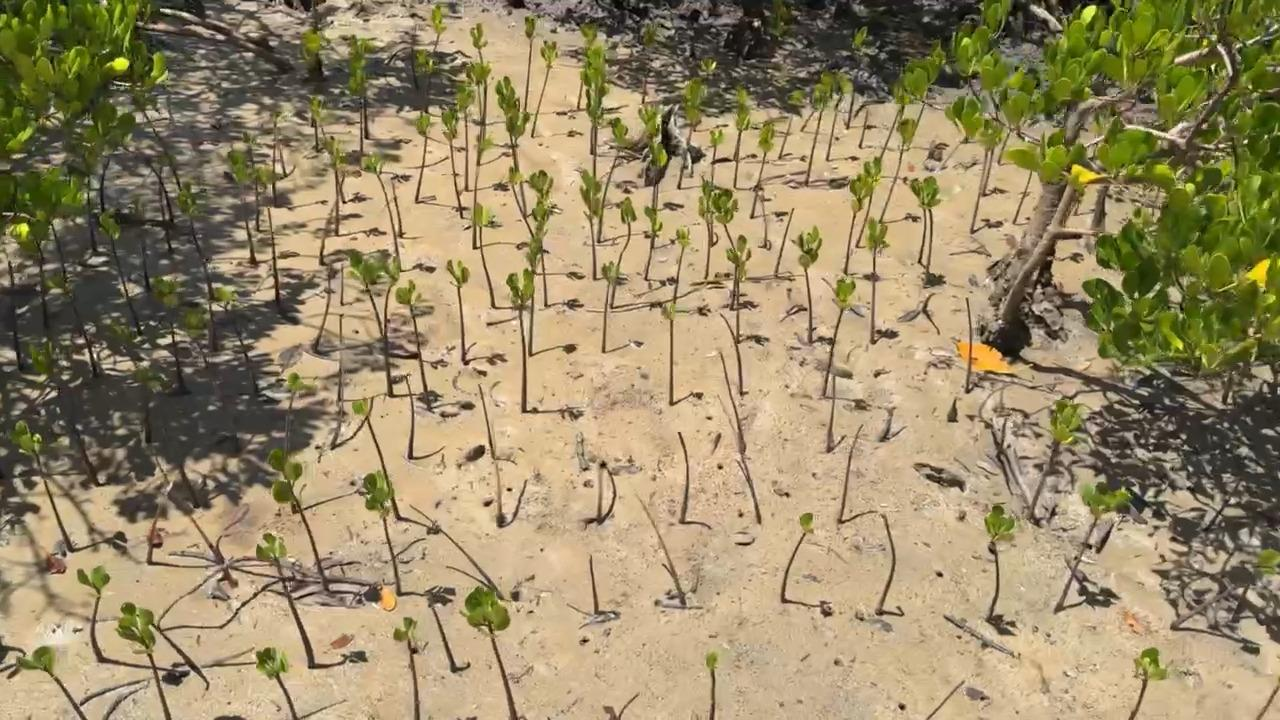Tree: (270, 450, 380, 604), (255, 530, 368, 668), (16, 420, 126, 557), (356, 469, 454, 608), (78, 567, 190, 686), (1168, 546, 1280, 658), (353, 397, 440, 535), (505, 269, 584, 420), (394, 281, 476, 423), (1052, 478, 1135, 613), (30, 336, 100, 484), (355, 150, 433, 275), (374, 249, 435, 408), (172, 181, 218, 352), (464, 585, 521, 720), (1025, 397, 1087, 521), (476, 384, 528, 526), (518, 239, 577, 356), (350, 35, 408, 150), (822, 277, 872, 410), (608, 194, 663, 312), (574, 165, 627, 287), (117, 602, 170, 720), (447, 260, 506, 366), (531, 165, 582, 280), (470, 201, 524, 309), (410, 111, 466, 215), (584, 82, 637, 191), (780, 510, 834, 616), (14, 645, 88, 720), (100, 210, 144, 335), (639, 496, 688, 607), (215, 284, 262, 397), (523, 12, 574, 116), (803, 83, 853, 188), (532, 37, 583, 136), (726, 234, 772, 342), (467, 60, 513, 164), (659, 299, 704, 405), (878, 117, 923, 223), (575, 21, 627, 112), (254, 167, 288, 306), (984, 505, 1019, 638), (796, 225, 834, 344), (55, 273, 98, 373), (749, 121, 791, 221), (440, 106, 477, 219), (471, 23, 511, 125), (867, 216, 899, 343), (837, 423, 877, 524), (155, 277, 188, 397), (97, 109, 135, 213), (844, 174, 879, 281), (601, 262, 643, 351), (588, 47, 623, 153), (677, 431, 713, 531), (671, 226, 711, 315), (969, 127, 1002, 234), (404, 373, 444, 460), (253, 646, 300, 720), (873, 514, 906, 619), (136, 150, 181, 225), (232, 148, 262, 260), (282, 371, 317, 466), (677, 79, 707, 189), (907, 83, 948, 163), (825, 75, 862, 163), (504, 165, 543, 247), (391, 615, 421, 720), (919, 176, 947, 288), (26, 228, 57, 329), (431, 601, 472, 676), (355, 251, 388, 344), (709, 188, 743, 278), (846, 28, 876, 129), (698, 177, 727, 279), (153, 145, 180, 253), (1129, 644, 1167, 720), (691, 58, 730, 132), (496, 76, 526, 172), (350, 69, 382, 156), (719, 352, 746, 453), (309, 263, 338, 355), (854, 156, 883, 247), (421, 5, 448, 102), (190, 518, 232, 580), (328, 393, 375, 448), (734, 444, 766, 523), (146, 496, 180, 570), (777, 88, 810, 162), (910, 178, 932, 282), (323, 135, 347, 230), (651, 139, 682, 212), (733, 109, 760, 190), (718, 310, 744, 394), (729, 236, 758, 311), (773, 207, 803, 277), (732, 89, 760, 160), (7, 263, 25, 368), (79, 158, 99, 251), (320, 187, 342, 267), (387, 170, 413, 235), (639, 25, 661, 100), (880, 100, 909, 156), (965, 295, 981, 394), (302, 29, 331, 83), (827, 359, 844, 449), (596, 461, 617, 526), (637, 104, 665, 149), (983, 147, 1007, 198), (270, 107, 283, 200), (708, 128, 728, 186), (703, 652, 720, 720), (307, 95, 326, 151), (1014, 170, 1033, 224), (590, 556, 603, 618), (759, 196, 772, 249)
